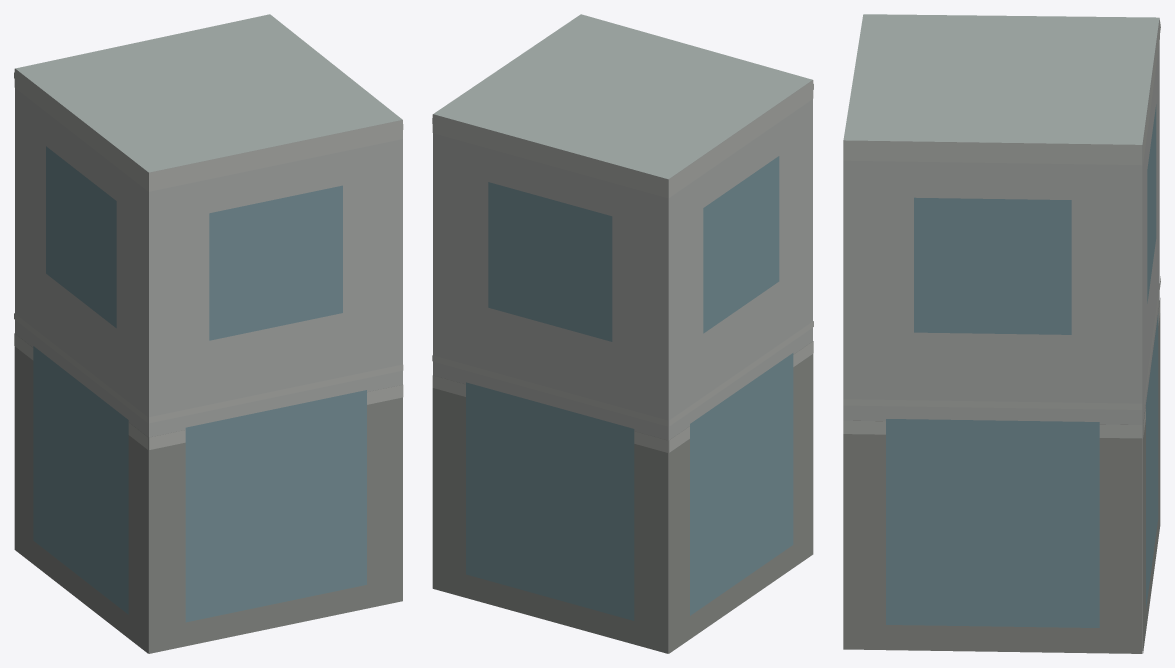
Rendered from survey-upis-32886286.glb.
3 renders of one model, left to right at view 1: azimuth 30°, elevation 25°; view 2: azimuth 150°, elevation 25°; view 3: azimuth 270°, elevation 25°, orthographic. The views are drawn at different scales.
Visible parts, largest first — view 1: survey-upis-32886286.tmp; view 2: survey-upis-32886286.tmp; view 3: survey-upis-32886286.tmp.
Part boxes in pixels (bbox=[...]): survey-upis-32886286.tmp: bbox=[14, 14, 403, 653]; survey-upis-32886286.tmp: bbox=[432, 14, 813, 653]; survey-upis-32886286.tmp: bbox=[843, 14, 1160, 653].
Size of the model in its own units: 3.39 by 6.1 by 3.46.
